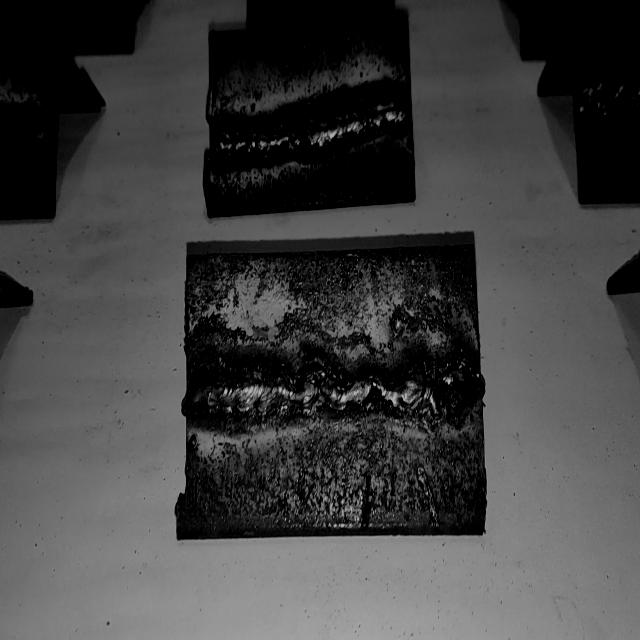Bad Weld: (193, 358, 481, 422), (210, 91, 410, 156)
Defect: (414, 348, 484, 428), (207, 121, 323, 159)
Good Weld: (570, 79, 640, 118), (0, 106, 56, 153)
